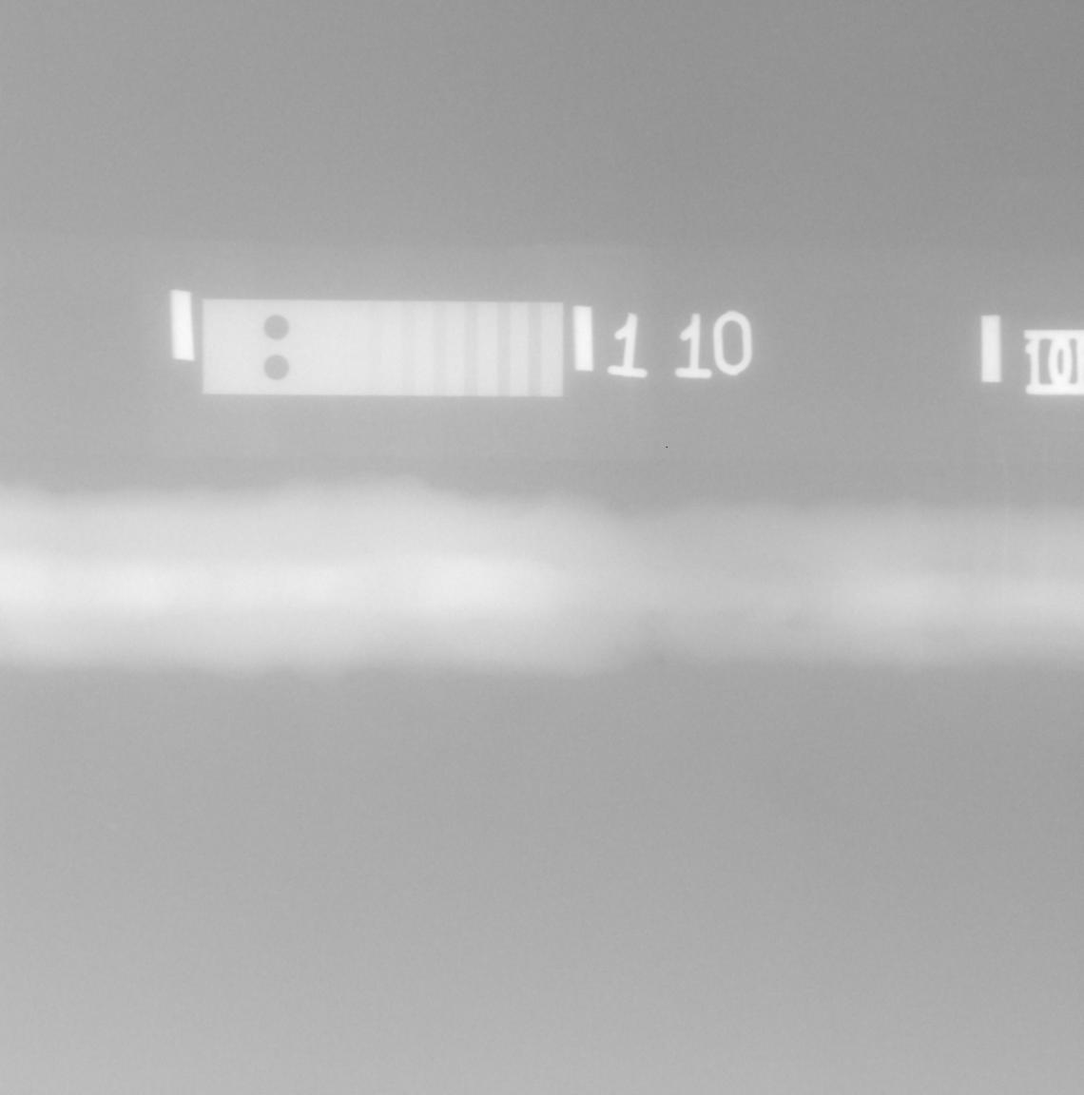Inclusion: (660, 660, 663, 663)
Pore/Porosity: (616, 648, 620, 655)
Reference Standard 2: (201, 298, 564, 397)
